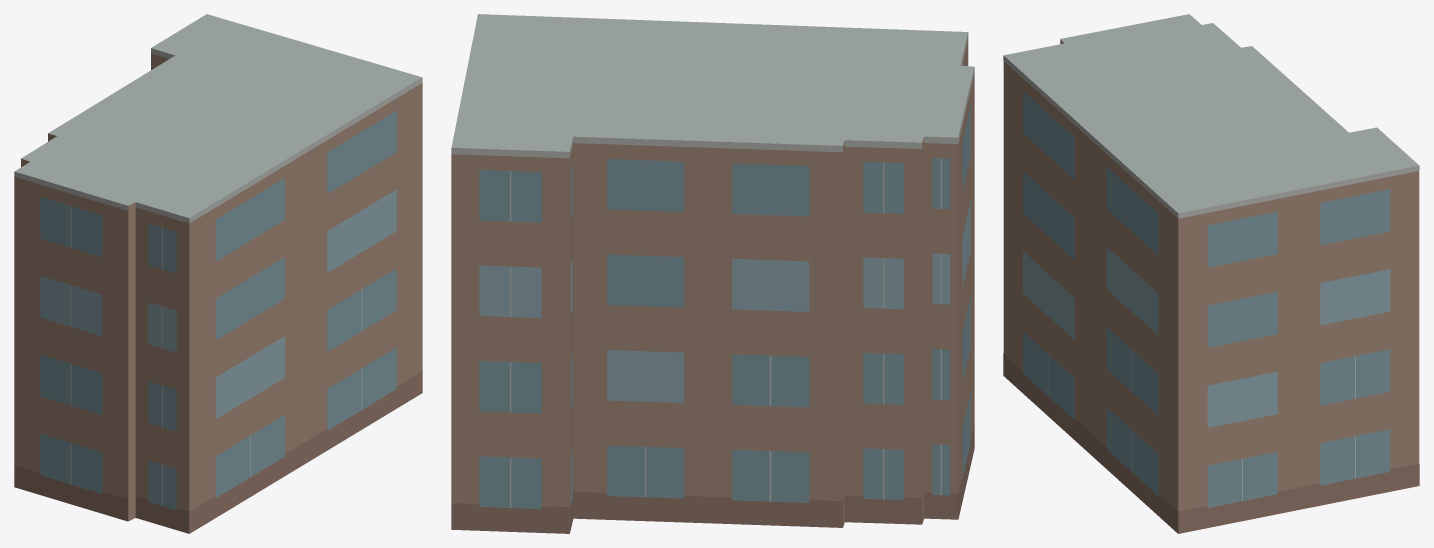
File: survey-upis-32615913.glb
The picture shows the model from 3 angles, left to right: view 1: azimuth 30°, elevation 25°; view 2: azimuth 150°, elevation 25°; view 3: azimuth 270°, elevation 25°; orthographic projection. The views are drawn at different scales.
Visible parts, largest first — view 1: survey-upis-32615913.tmp; view 2: survey-upis-32615913.tmp; view 3: survey-upis-32615913.tmp.
Boxes of the visible parts, x1=… form: survey-upis-32615913.tmp: x1=14, y1=14, x2=422, y2=533; survey-upis-32615913.tmp: x1=451, y1=14, x2=974, y2=533; survey-upis-32615913.tmp: x1=1003, y1=14, x2=1419, y2=533.
Bounding box in the file's own units: 19.44 × 14.56 × 17.14.
